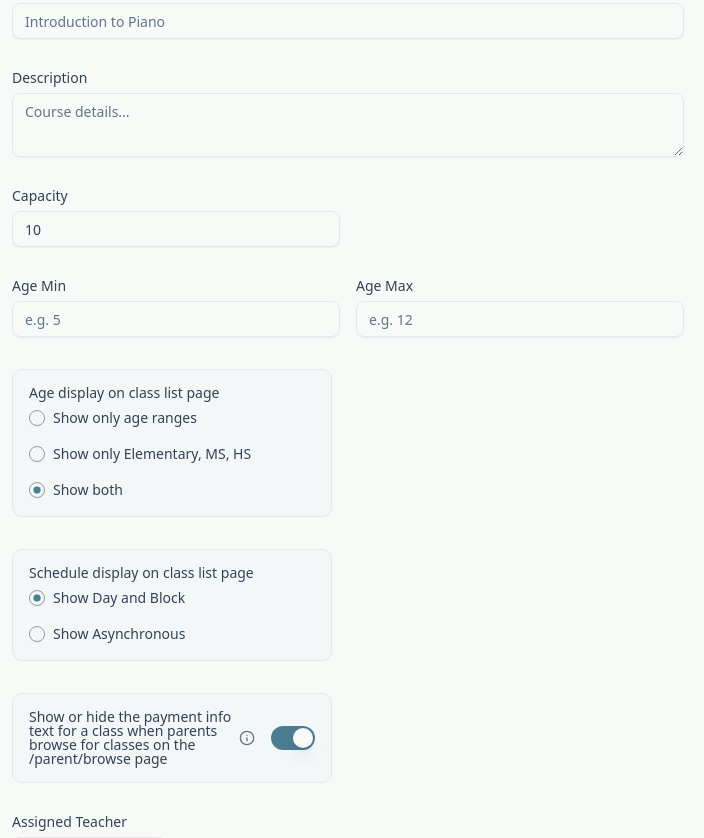
Test: AdminClassForm › requires Day and Block when schedule mode is day_block
Type "Sync Class" into the field labelled "Class Name". click: (348, 21)
box: [12,3,684,39]
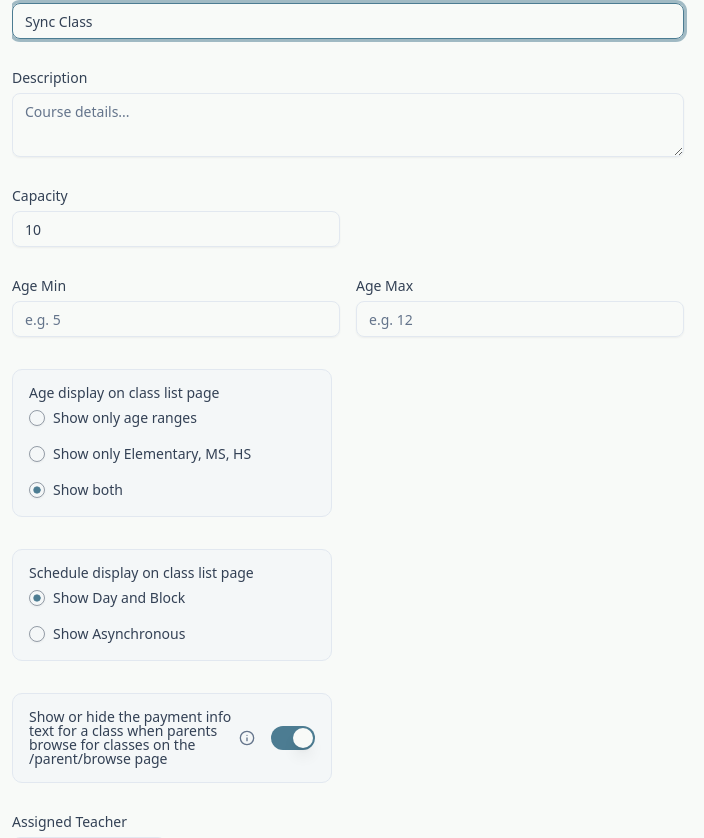
Replace the text in the number field labelled "Capacity" with "20". click: (176, 229)
box: [12,211,340,247]
(page scrolled)
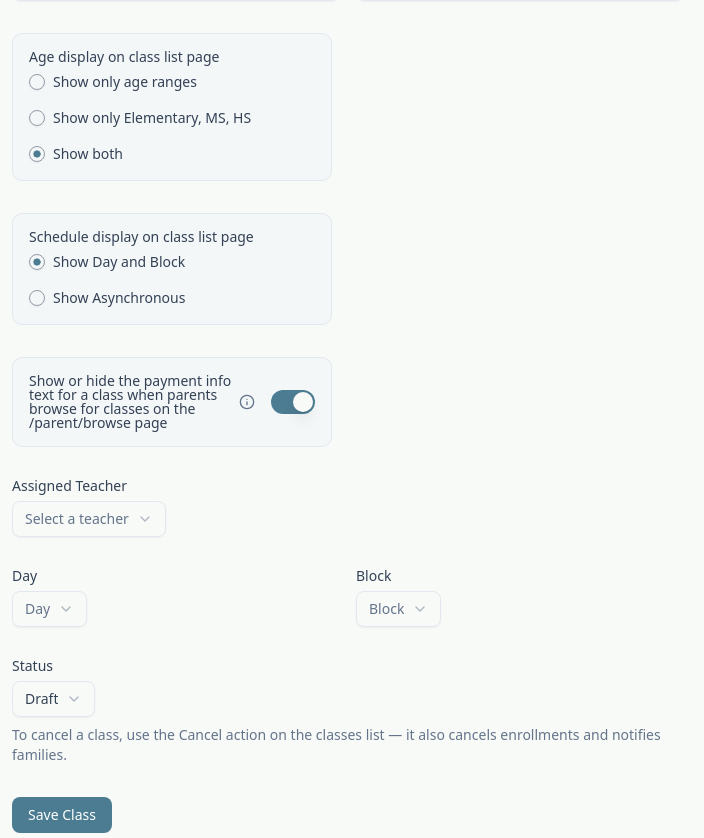
# Submit the form
Click the button "Save Class". click: (62, 815)
box: [12,797,112,833]
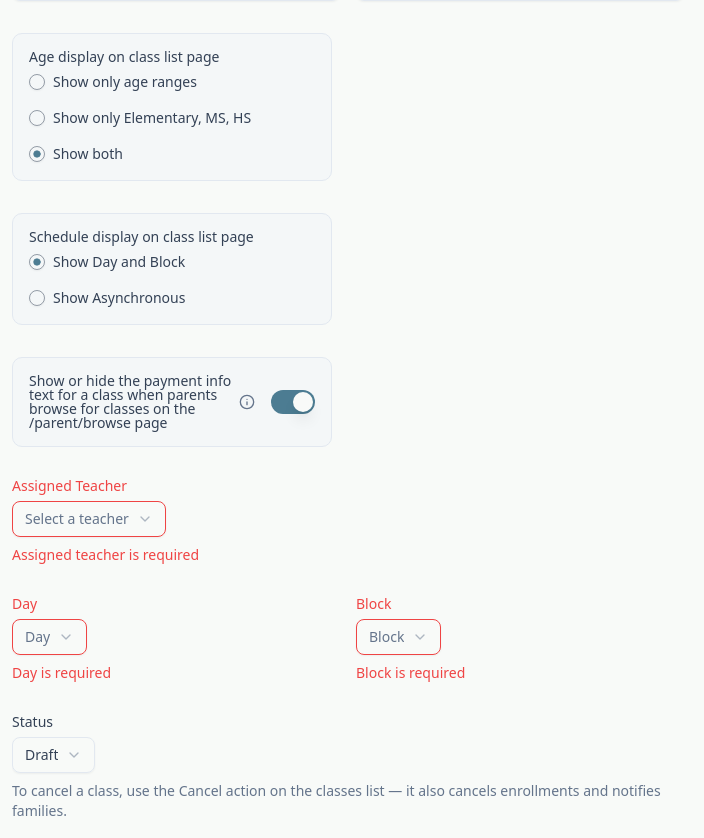
Expected: the text "Day is required" is shown, [12,663,111,682]
Expected: the text "Block is required" is shown, [356,663,465,682]
